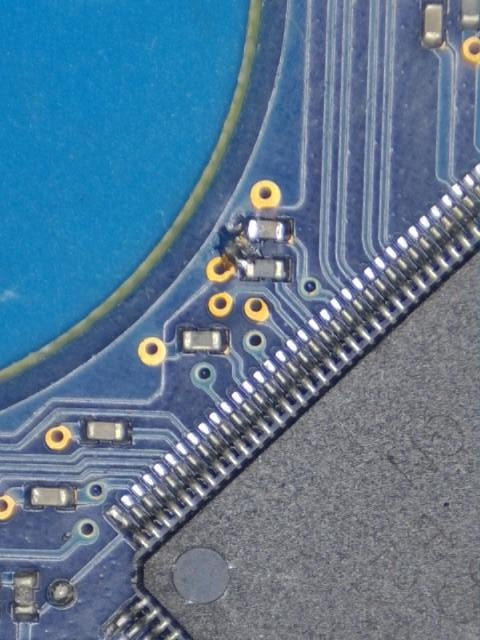pcb_defect: (237, 220, 264, 275)
